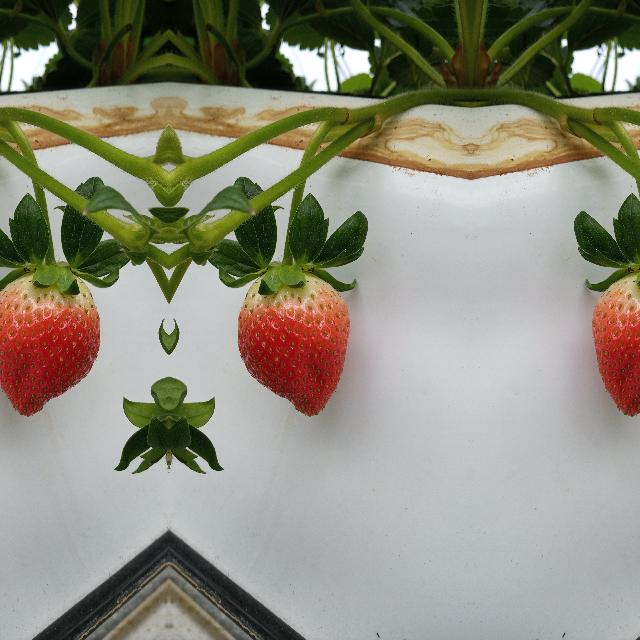Health_100: (236, 271, 350, 417), (0, 271, 100, 417), (591, 271, 640, 417)
